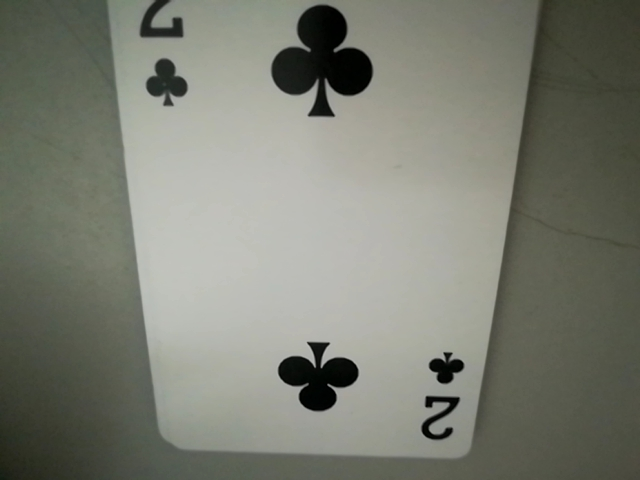mh 2: (411, 347, 473, 448)
